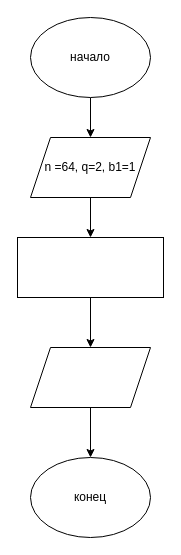
Some shapes in this 181 by 555 pixel diagram are drawn without their labels. Here are the shapes that lost their labels. From the top down, the box of each, then its label:
(16, 236, 164, 298): bn:=b1*exp(ln(q)*(n-1))
(30, 346, 150, 408): bn
